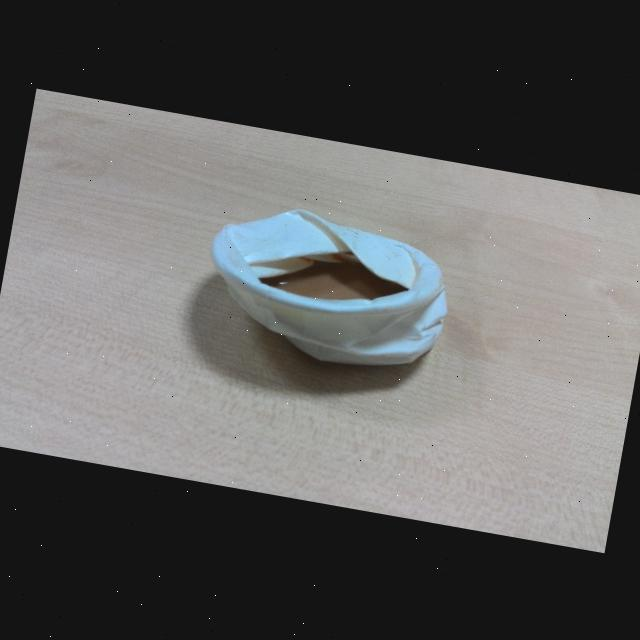trash: (194, 190, 460, 380)
